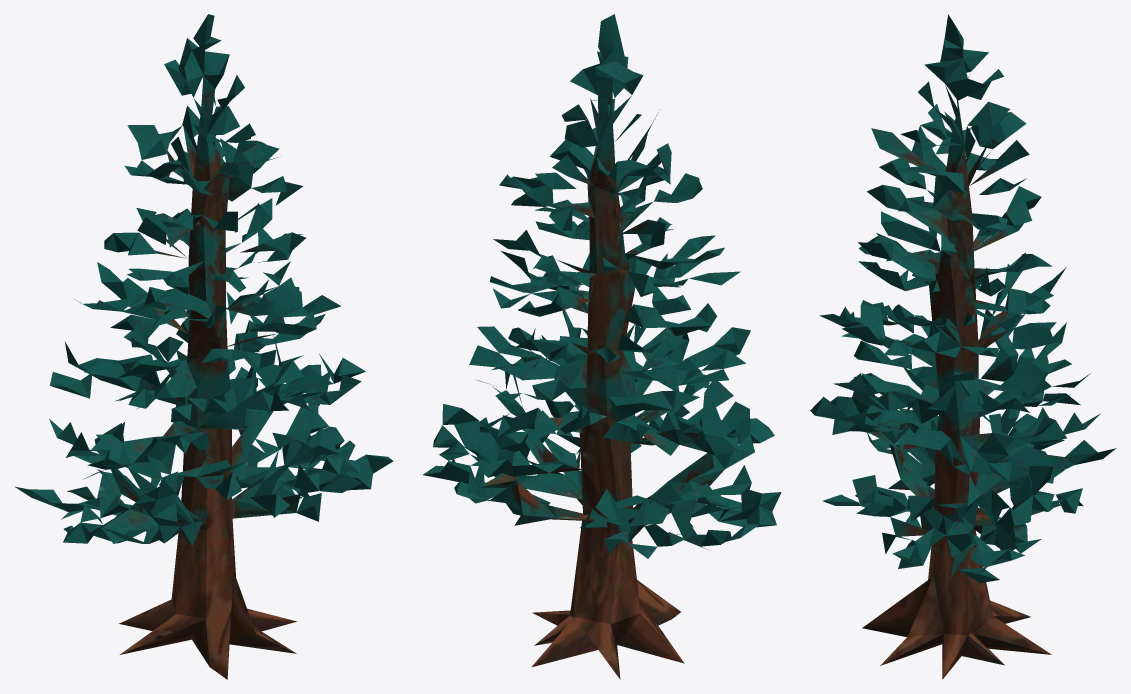
Rendered from pine.glb.
The picture shows the model from 3 angles, left to right: view 1: azimuth 30°, elevation 25°; view 2: azimuth 150°, elevation 25°; view 3: azimuth 270°, elevation 25°; orthographic projection.
Visible parts, largest first — view 1: output_unwrapped; view 2: output_unwrapped; view 3: output_unwrapped.
Boxes of the visible parts, <box> form: output_unwrapped: <box>15,14,393,679</box>; output_unwrapped: <box>423,14,781,679</box>; output_unwrapped: <box>810,14,1116,679</box>.
Size of the model in its own units: 1 by 1.86 by 0.8248.
Materials: 1 (1 with a texture image).
